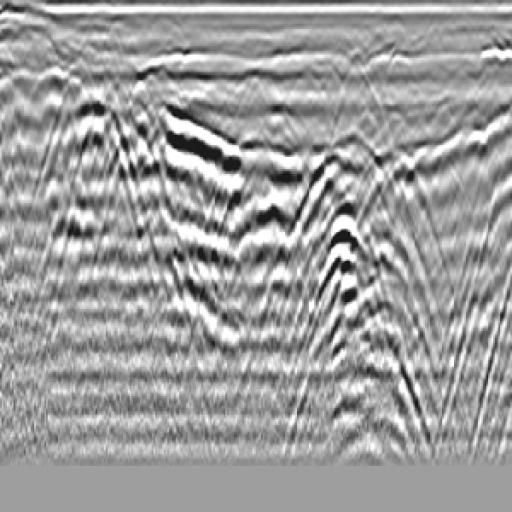metalic: (215, 118, 330, 281)
